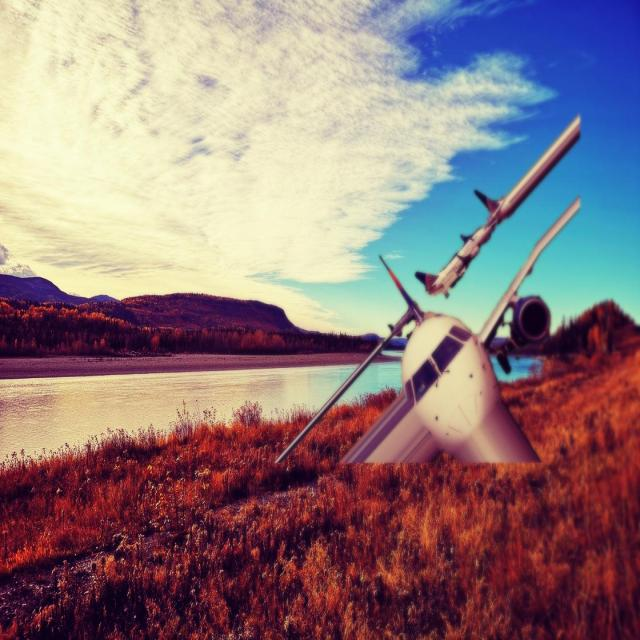airplane: (273, 113, 582, 466)
